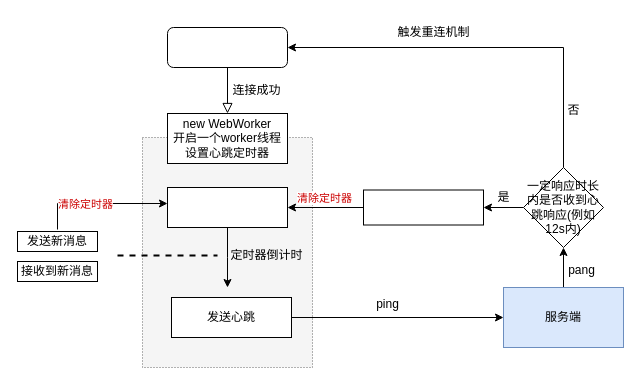
Some shapes in this 641 by 385 pixel diagram are drawn without their labels. The shapes that lost their labels are listed below. From the top down, each one's centre as x and y in pixels, then its label:
At point (227, 47): "websocket连接".
At point (227, 207): "触发定时器".
At point (423, 207): "接收到服务器响应".
